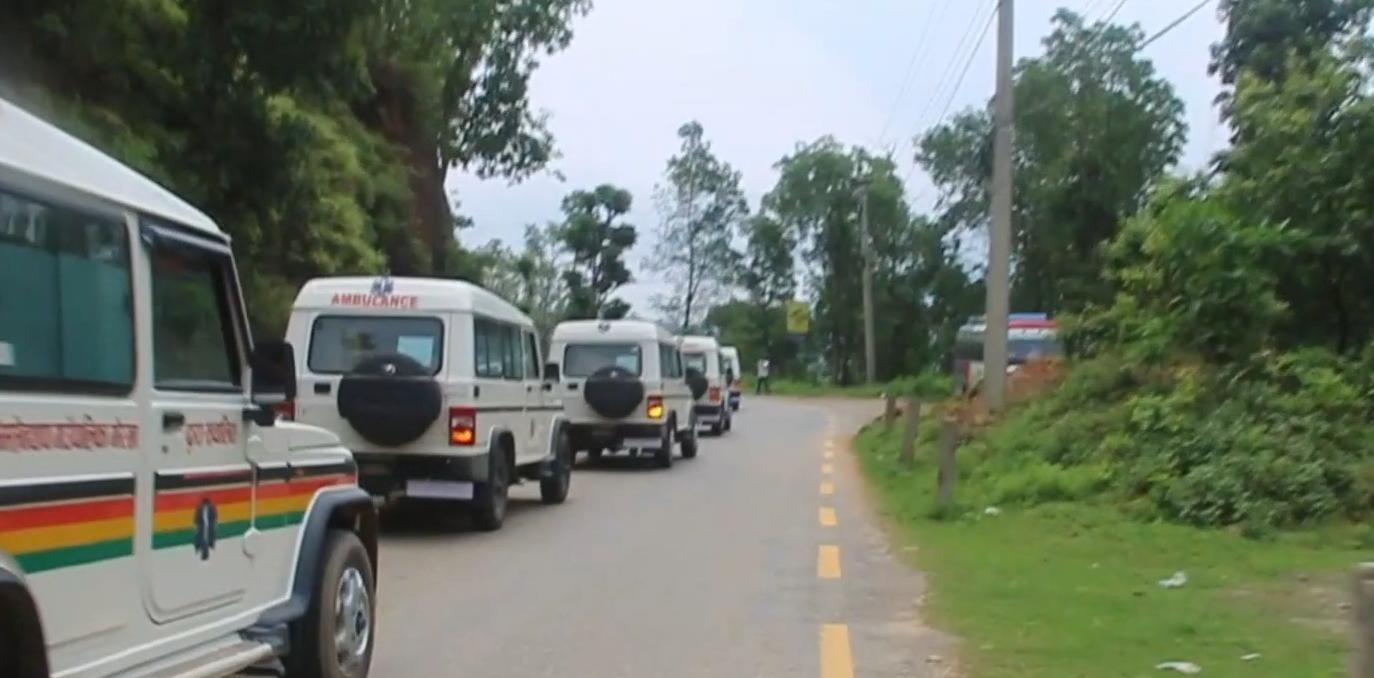ambulance: (277, 267, 578, 535), (549, 313, 703, 464)
